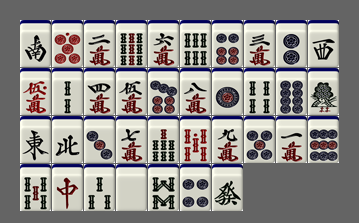0m: (20, 68, 51, 115)
0p: (52, 20, 83, 67)
0s: (180, 116, 211, 163)
1m: (276, 116, 307, 163)
1p: (212, 68, 243, 115)
1s: (308, 68, 339, 115)
1z: (20, 116, 51, 163)
2m: (84, 20, 115, 67)
2p: (276, 20, 307, 67)
2s: (52, 68, 83, 115)
2z: (20, 20, 51, 67)
3m: (244, 20, 275, 67)
3p: (84, 116, 115, 163)
3s: (84, 164, 115, 211)
3z: (308, 20, 339, 67)
4m: (84, 68, 115, 115)
4p: (180, 164, 211, 211)
4s: (244, 68, 275, 115)
4z: (52, 116, 83, 163)
5m: (116, 68, 147, 115)
5p: (244, 116, 275, 163)
5s: (20, 164, 51, 211)
5z: (116, 164, 147, 211)
6m: (148, 20, 179, 67)
6p: (212, 20, 243, 67)
6s: (180, 20, 211, 67)
6z: (212, 164, 243, 211)
7m: (116, 116, 147, 163)
7p: (148, 68, 179, 115)
7s: (148, 116, 179, 163)
7z: (52, 164, 83, 211)
8m: (180, 68, 211, 115)
8p: (276, 68, 307, 115)
8s: (148, 164, 179, 211)
9m: (212, 116, 243, 163)
9p: (308, 116, 339, 163)
9s: (116, 20, 147, 67)
